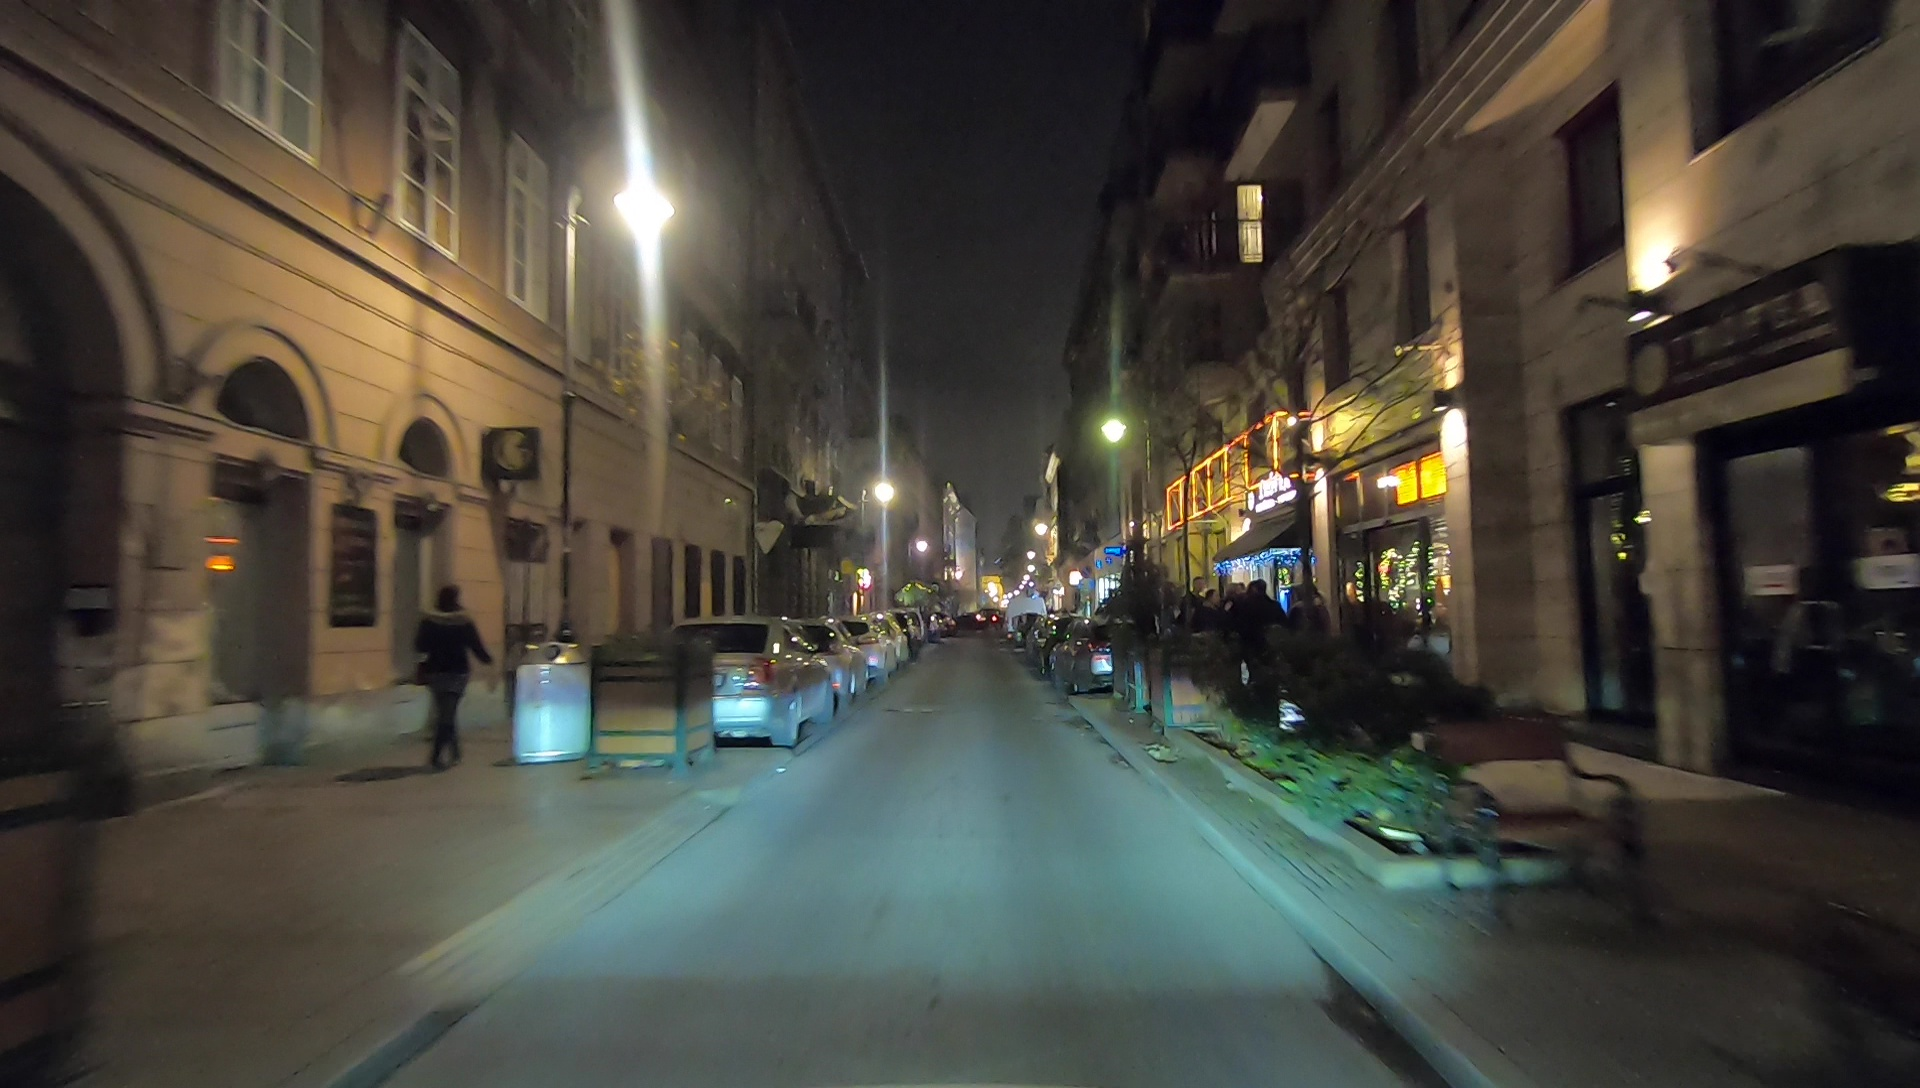person: (412, 582, 493, 767), (1237, 577, 1283, 667), (1288, 585, 1328, 684), (1193, 586, 1225, 673)
